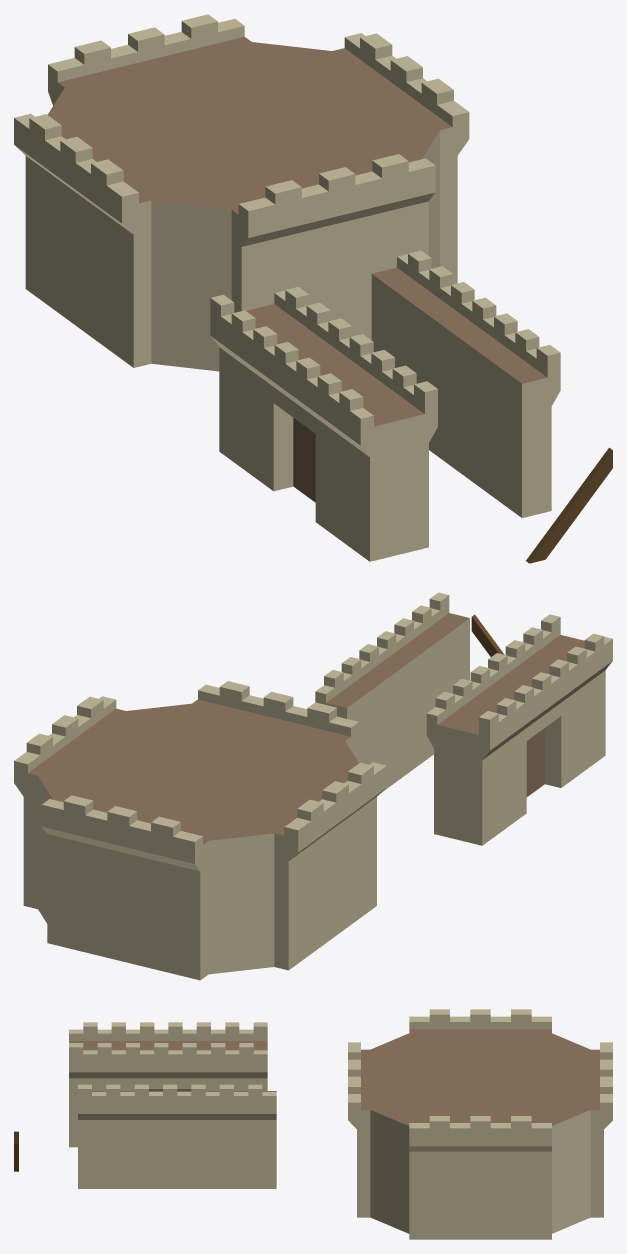
File: Castle-static-parts.fbx
3 renders of one model, top to bottom at view 1: azimuth 30°, elevation 25°; view 2: azimuth 150°, elevation 25°; view 3: azimuth 270°, elevation 25°, orthographic. The views are drawn at different scales.
Parts seen in each view (by area): view 1: Object_17.001, Object_17.003, Object_17.002, Object_17; view 2: Object_17.001, Object_17.003, Object_17.002, Object_17; view 3: Object_17.001, Object_17.002, Object_17.003.
Part boxes in pixels (bbox=[...]): Object_17.001: bbox=[14, 14, 469, 371]; Object_17.003: bbox=[210, 287, 437, 561]; Object_17.002: bbox=[371, 250, 560, 517]; Object_17: bbox=[526, 447, 612, 563]; Object_17.001: bbox=[14, 681, 386, 980]; Object_17.003: bbox=[426, 614, 612, 845]; Object_17.002: bbox=[315, 592, 469, 792]; Object_17: bbox=[471, 614, 504, 656]; Object_17.001: bbox=[348, 1009, 612, 1239]; Object_17.002: bbox=[78, 1084, 276, 1188]; Object_17.003: bbox=[69, 1022, 267, 1147].
Bounding box in the file's own units: 1054 × 509 × 2262.
